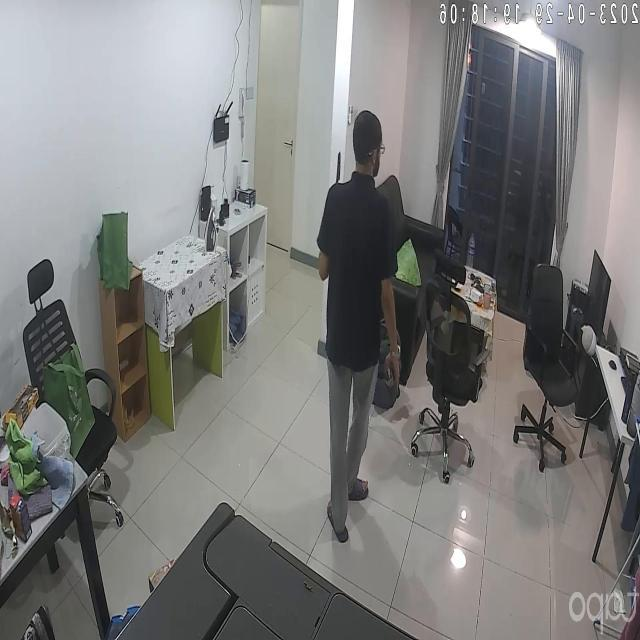Knife: (329, 144, 348, 191)
